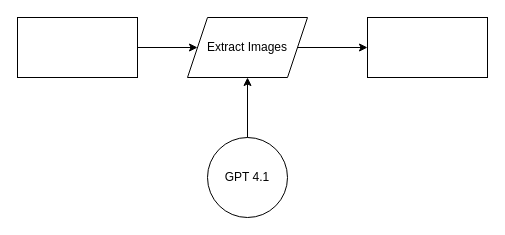
The diagram is 505 pixels wide and 235 high, and some of its shapes have lost their labels. Here are the shapes that lost their labels. From the top down, the box of each, then its label:
(16, 16, 138, 78): Receipt Images
(366, 16, 488, 78): JSON Format
